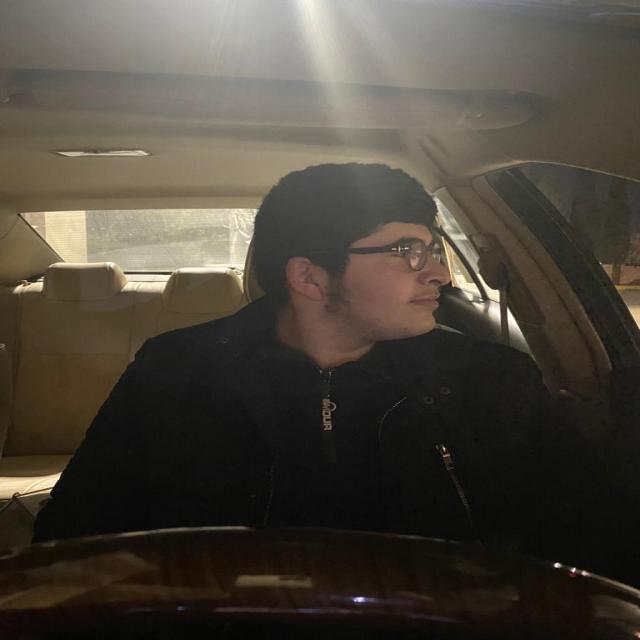person: (254, 156, 465, 364)
